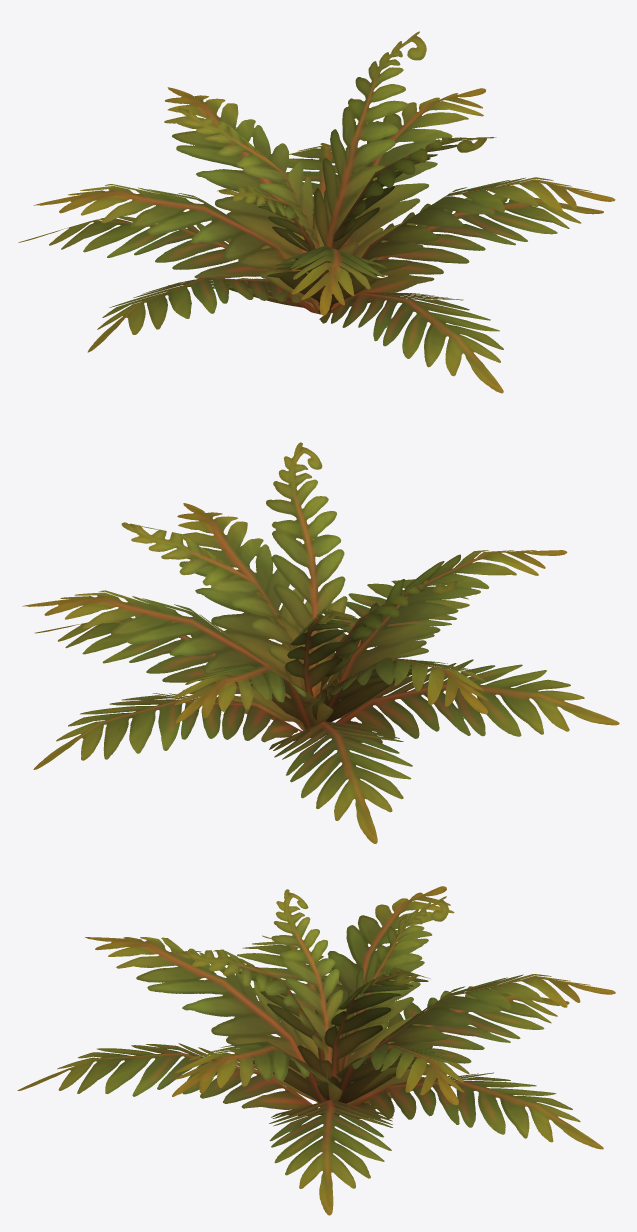
Rendered from guanmu_03.FBX.
3 renders of one model, top to bottom at view 1: azimuth 30°, elevation 25°; view 2: azimuth 150°, elevation 25°; view 3: azimuth 270°, elevation 25°, orthographic. The views are drawn at different scales.
Parts seen in each view (by area): view 1: guanmu_03; view 2: guanmu_03; view 3: guanmu_03.
Boxes of the visible parts, x1=… form: guanmu_03: x1=18, y1=31, x2=615, y2=393; guanmu_03: x1=22, y1=442, x2=619, y2=843; guanmu_03: x1=17, y1=886, x2=615, y2=1215.
Bounding box in the file's own units: 6.23 × 2.36 × 6.07.
